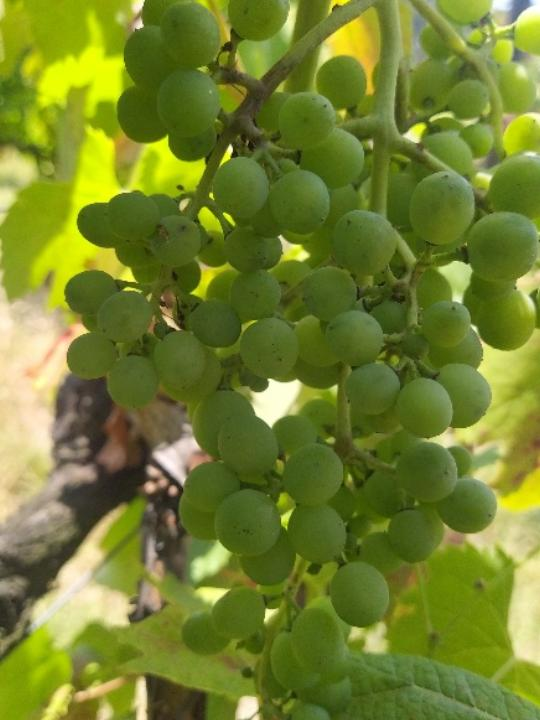grape: (63, 0, 540, 720)
